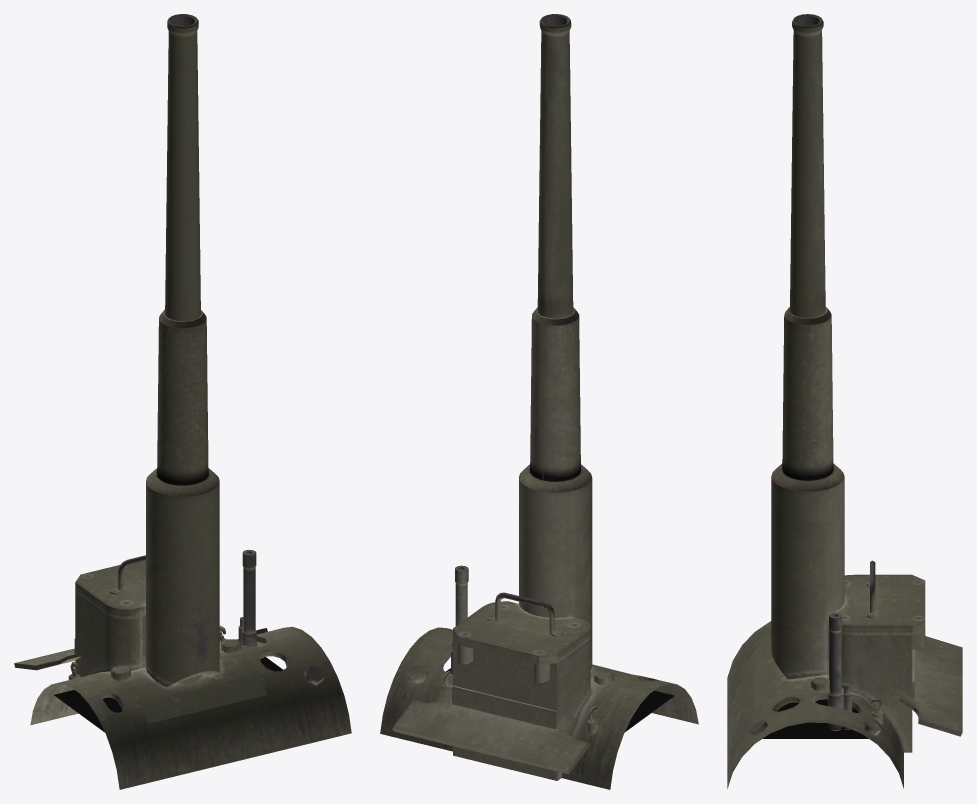
The model's file is Gun_03.glb.
3 views of the same model, side by side, from view 1: azimuth 30°, elevation 25°; view 2: azimuth 150°, elevation 25°; view 3: azimuth 270°, elevation 25° (orthographic).
Visible parts, largest first — view 1: set_0_group_0; view 2: set_0_group_0; view 3: set_0_group_0.
Part boxes in pixels (<box>): set_0_group_0: <box>14,14,351,789</box>; set_0_group_0: <box>380,14,698,789</box>; set_0_group_0: <box>727,14,962,788</box>.
Bounding box in the file's own units: 0.4924 × 1.45 × 0.4363.
Materials: 1 (1 with a texture image).
